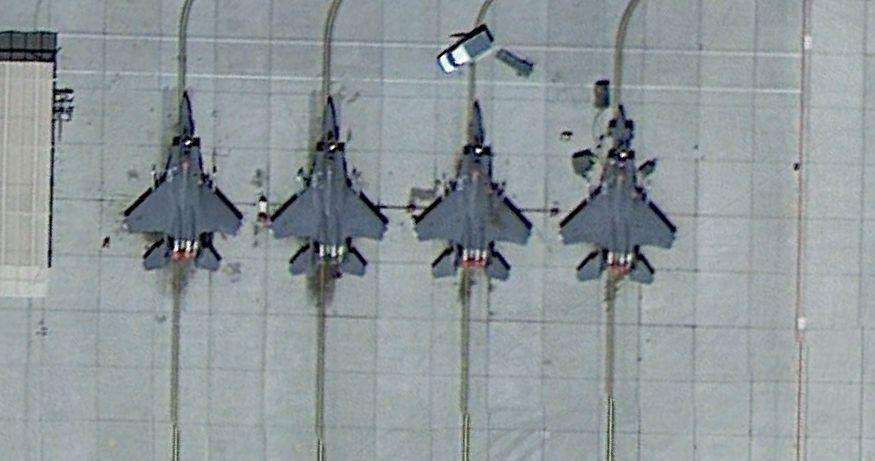F-15: (413, 96, 535, 288), (121, 90, 245, 273), (556, 102, 675, 287), (267, 92, 386, 275)
